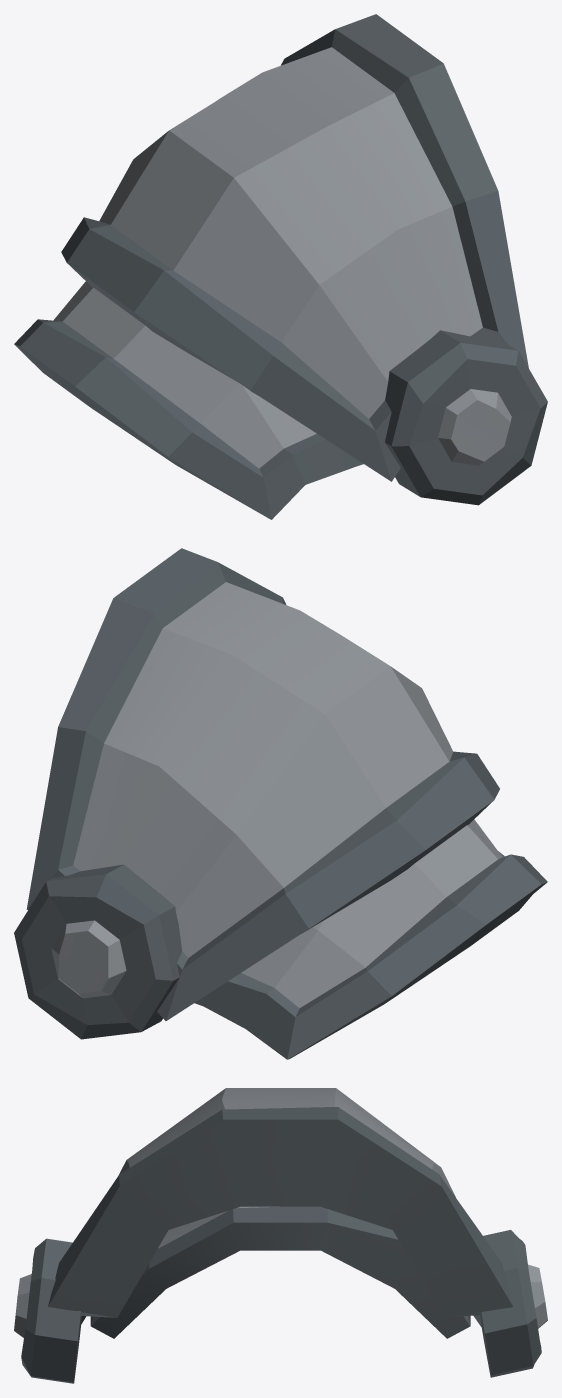
Rendered from Chr_ShoulderAttachRight_20_Static.fbx.
3 views of the same model, one above another, from view 1: azimuth 30°, elevation 25°; view 2: azimuth 150°, elevation 25°; view 3: azimuth 270°, elevation 25° (orthographic). The views are drawn at different scales.
Parts seen in each view (by area): view 1: Chr_ShoulderAttachRight_20_Static; view 2: Chr_ShoulderAttachRight_20_Static; view 3: Chr_ShoulderAttachRight_20_Static.
Part boxes in pixels (<box>): Chr_ShoulderAttachRight_20_Static: <box>14,14,547,519</box>; Chr_ShoulderAttachRight_20_Static: <box>14,548,547,1059</box>; Chr_ShoulderAttachRight_20_Static: <box>14,1088,547,1383</box>.
Bounding box in the file's own units: 0.2772 × 0.2558 × 0.414.
